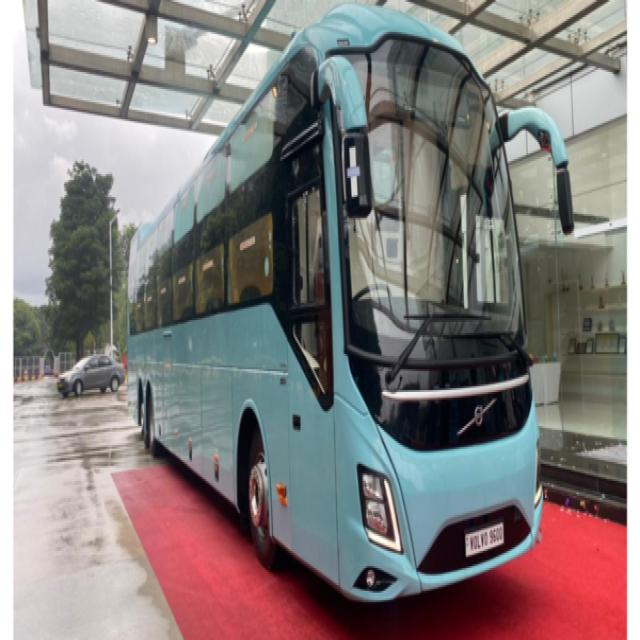bus: (129, 7, 572, 600)
